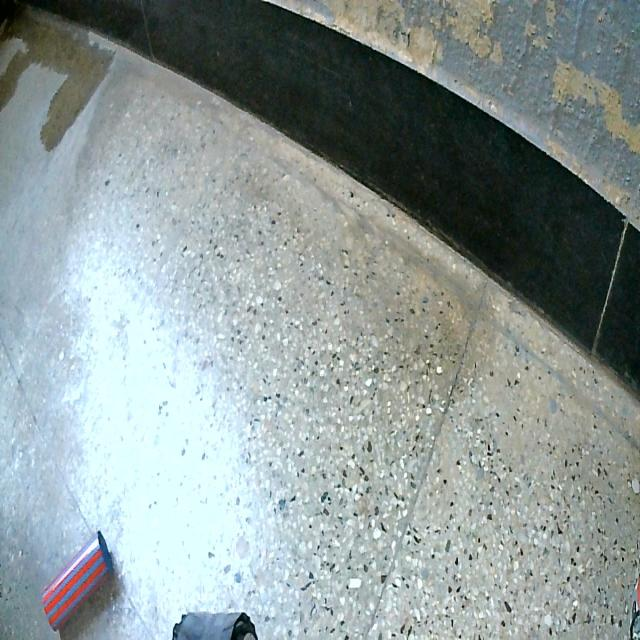cylinder: (26, 525, 125, 637)
